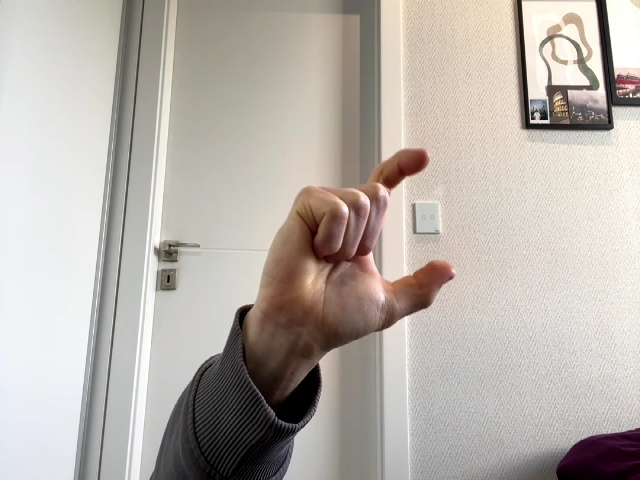C: (257, 149, 456, 350)
